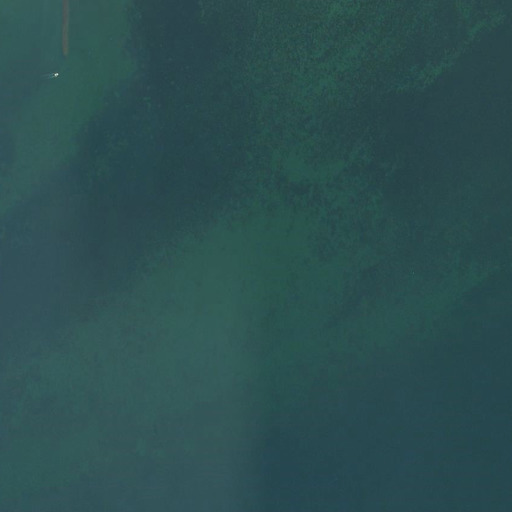ship: (53, 71, 59, 79)
